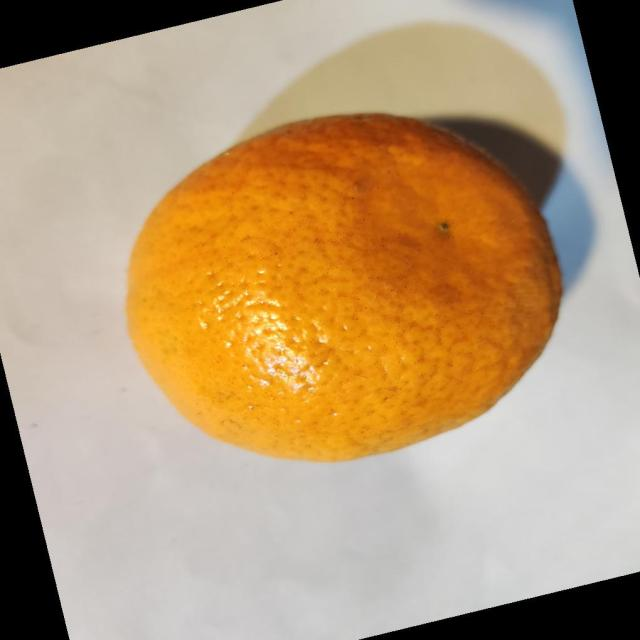fresh orange: (124, 110, 563, 463)
